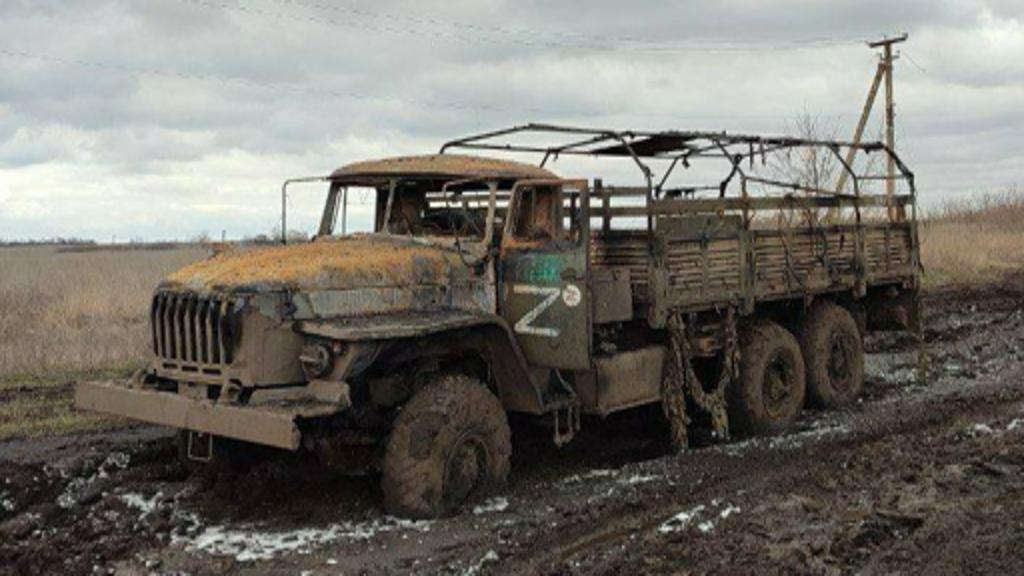TRUCK: (84, 85, 934, 520)
